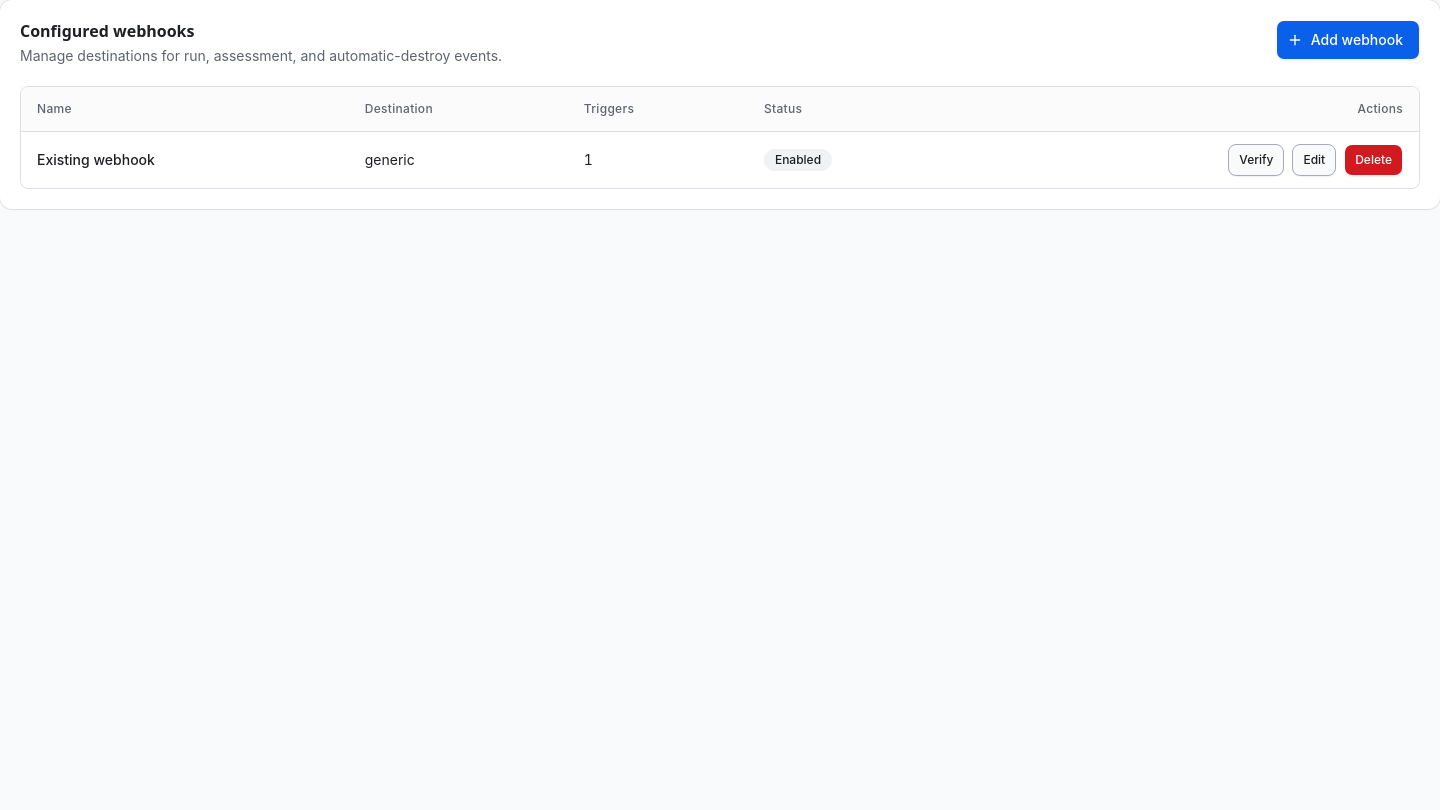
Test case: loads workspace webhooks and creates a webhook using notification configuration API
Expected: the text "Existing webhook" is shown, [21,131,349,188]
Step 1. Click the button "Add webhook" → (1348,40), box [1276,20,1420,60]
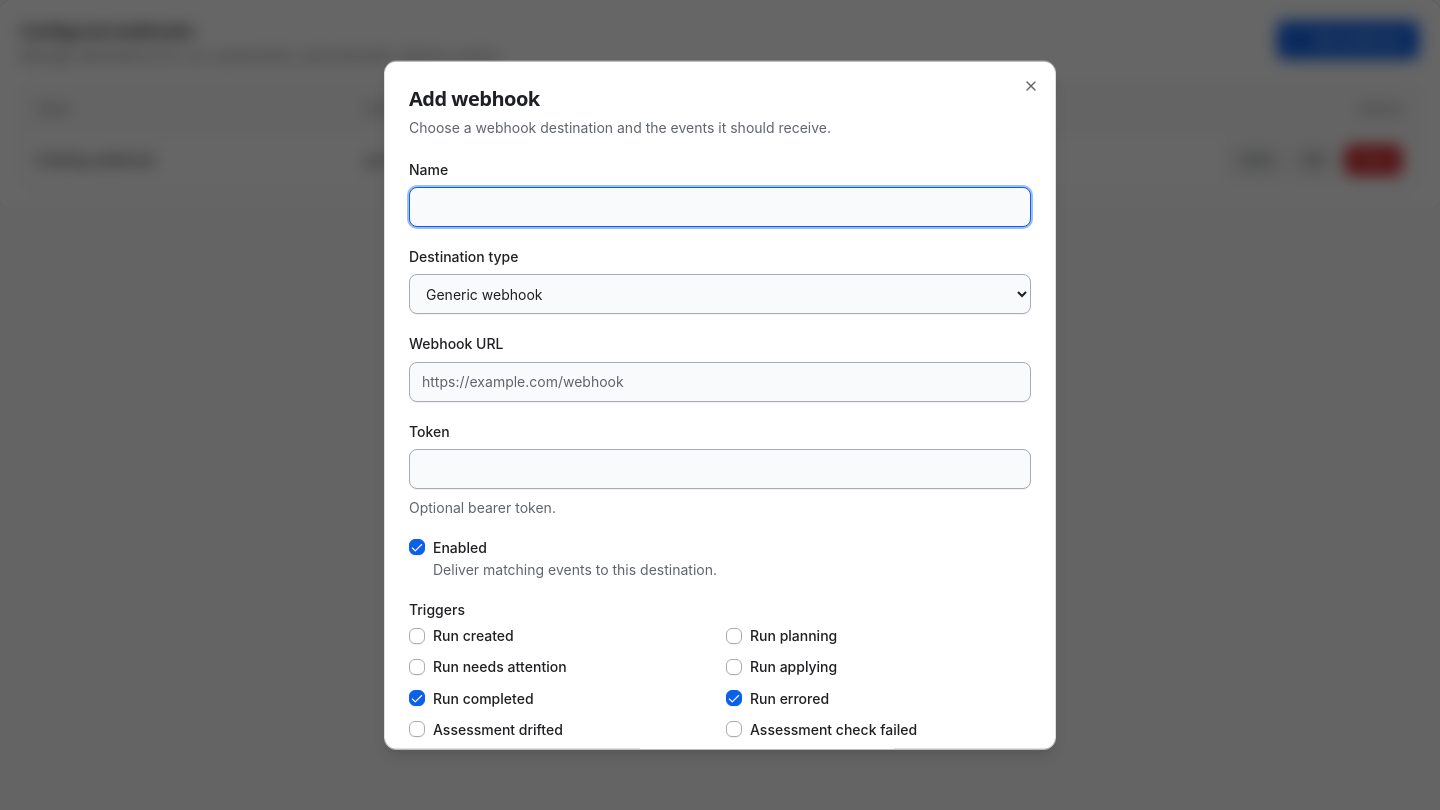
Step 2. Type "Deploy alerts" into the field labelled "Name" → (720,207), box [409,187,1031,227]
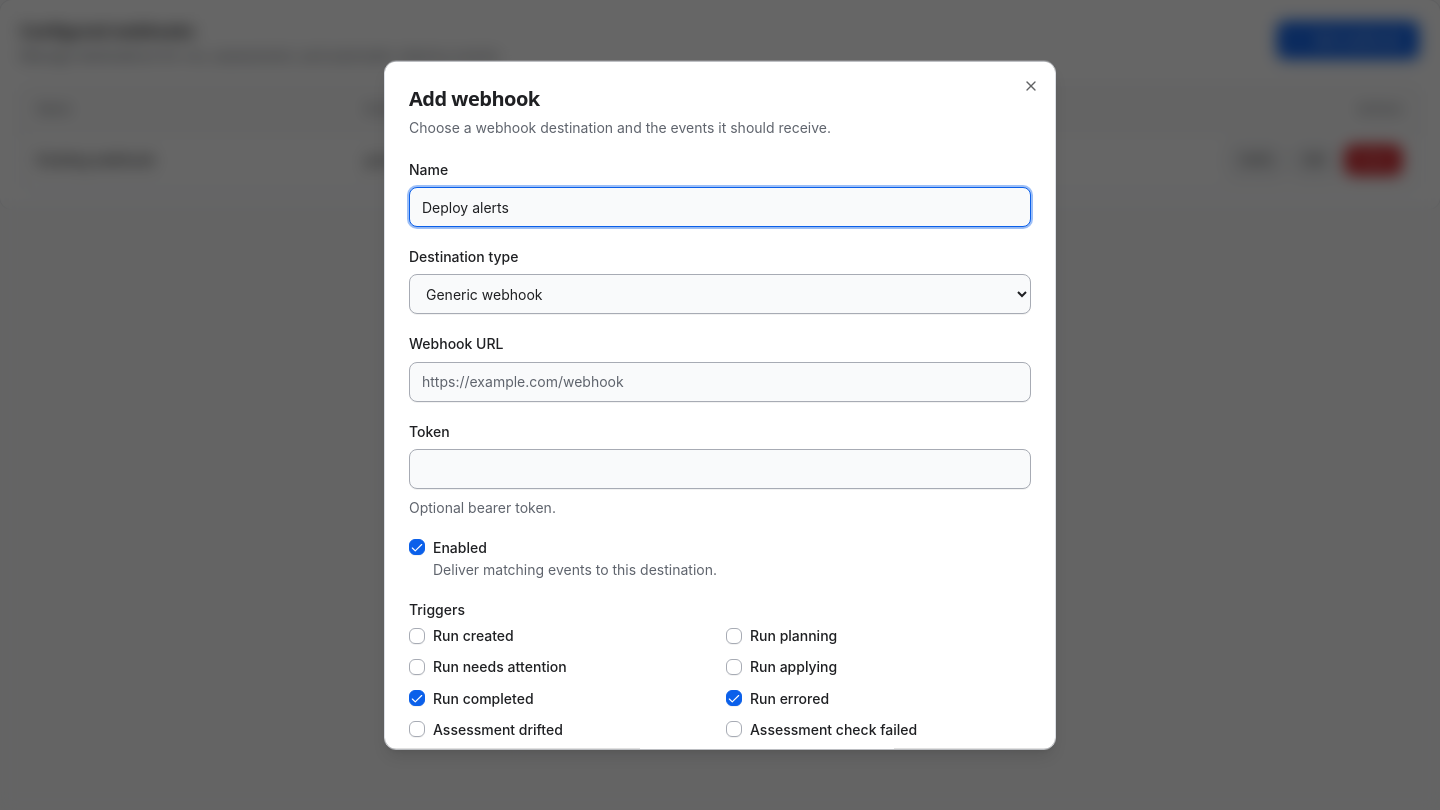
Step 3. Type "https://hooks.example.test/deploy" into the field labelled "Webhook URL" → (720,381), box [409,361,1031,401]
(page scrolled)
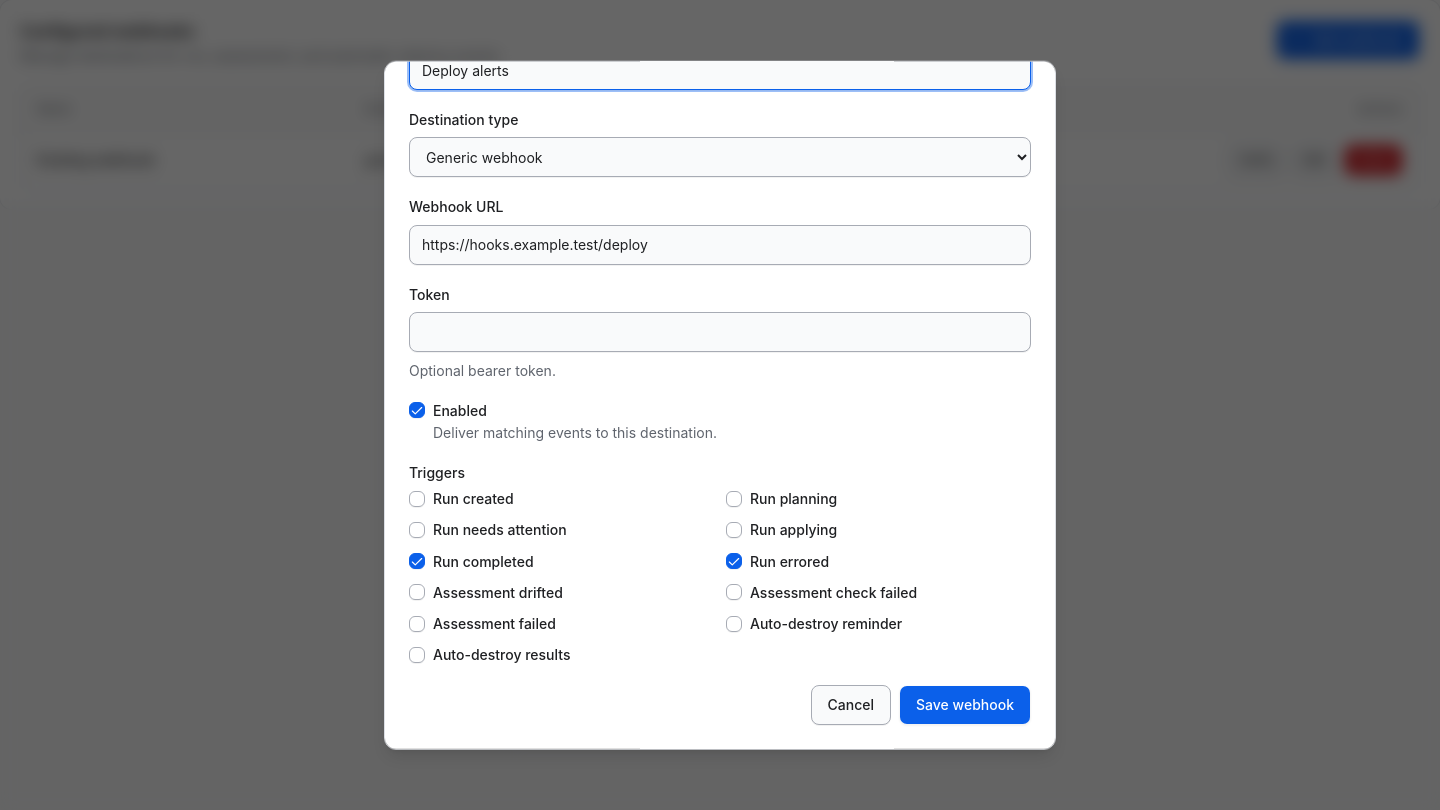
Step 4. Click the button "Save webhook" → (965,704), box [899,684,1031,724]
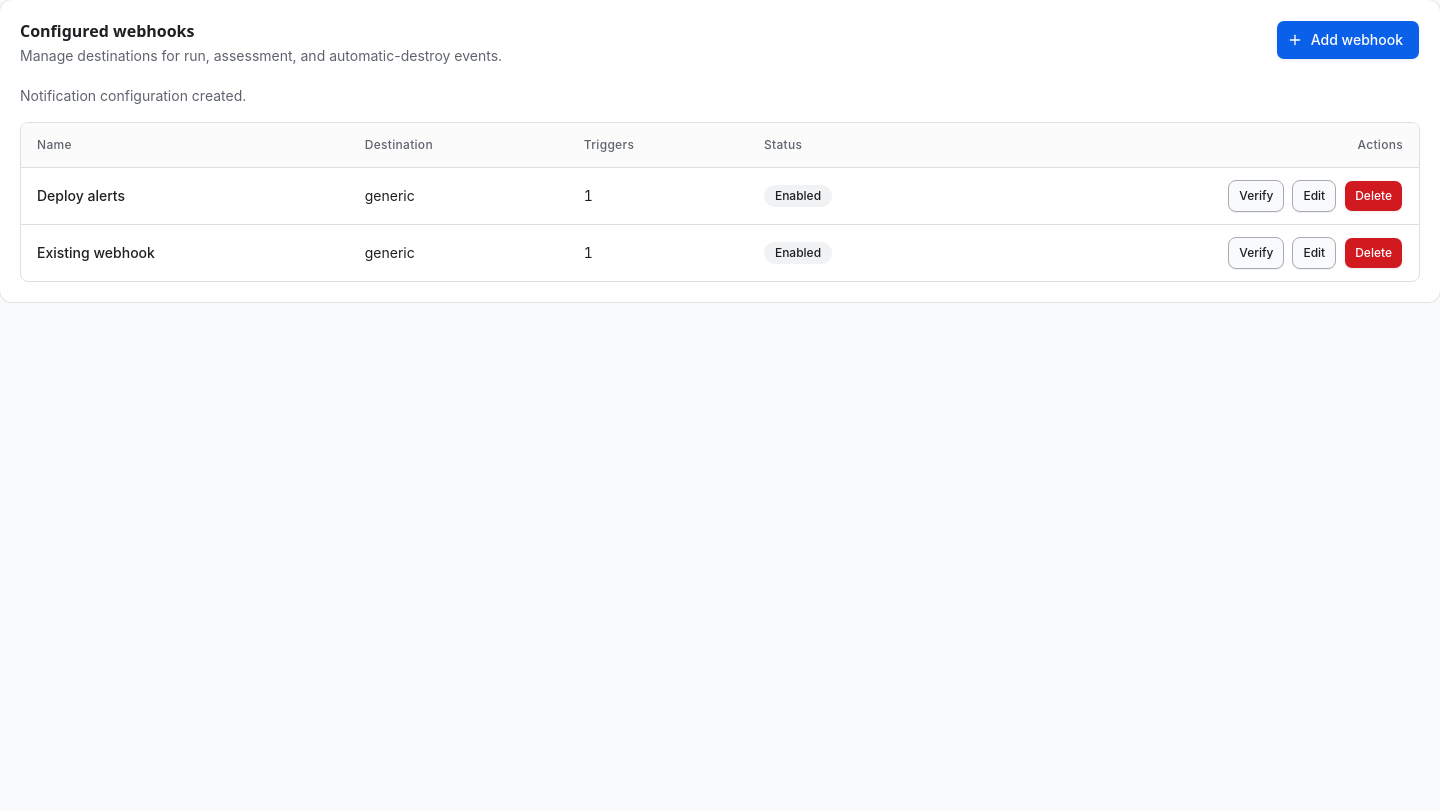
Expected: the text "Deploy alerts" is shown, [21,167,349,224]
